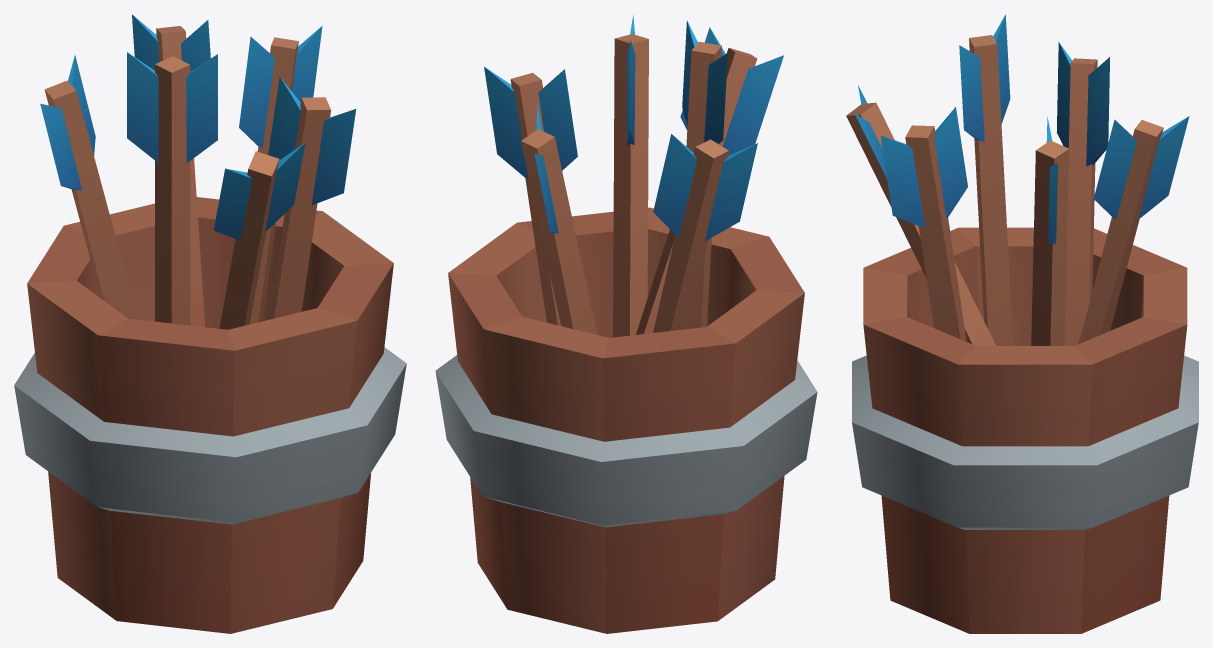
File: bucket_arrows.glb
3 renders of one model, left to right at view 1: azimuth 30°, elevation 25°; view 2: azimuth 150°, elevation 25°; view 3: azimuth 270°, elevation 25°, orthographic. The views are drawn at different scales.
Parts seen in each view (by area): view 1: bucket_arrows; view 2: bucket_arrows; view 3: bucket_arrows.
Boxes of the visible parts, x1,y1,x2,y2 form: bucket_arrows: [14, 14, 406, 633]; bucket_arrows: [435, 15, 817, 633]; bucket_arrows: [846, 14, 1198, 633].
Bounding box in the file's own units: 0.14 × 0.2313 × 0.1423.
Materials: 1 (1 with a texture image).
